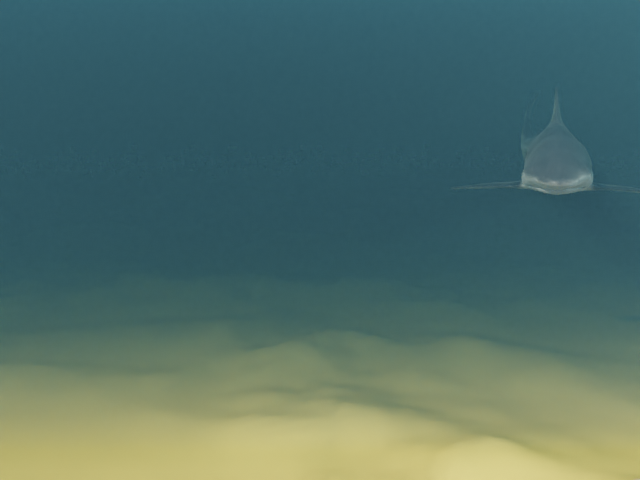Carribean Shark.001: (449, 86, 640, 194)
